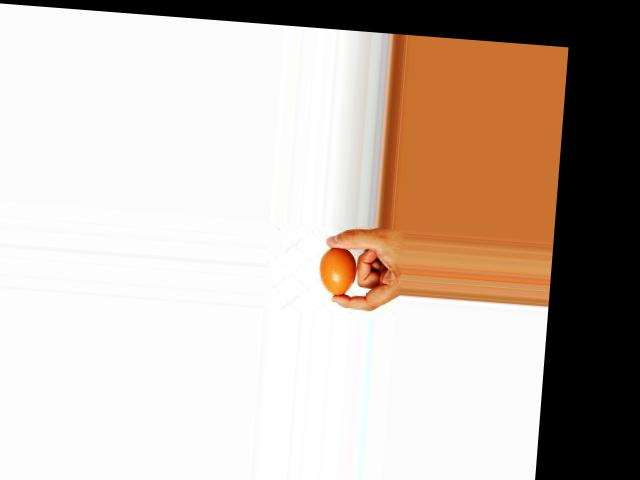egg: (316, 246, 357, 297)
